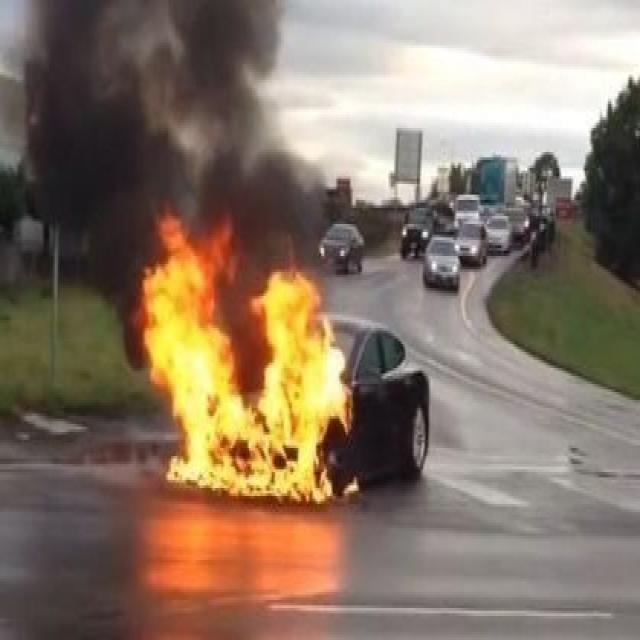Fire: (142, 216, 361, 507)
Smoke: (23, 2, 334, 400)
